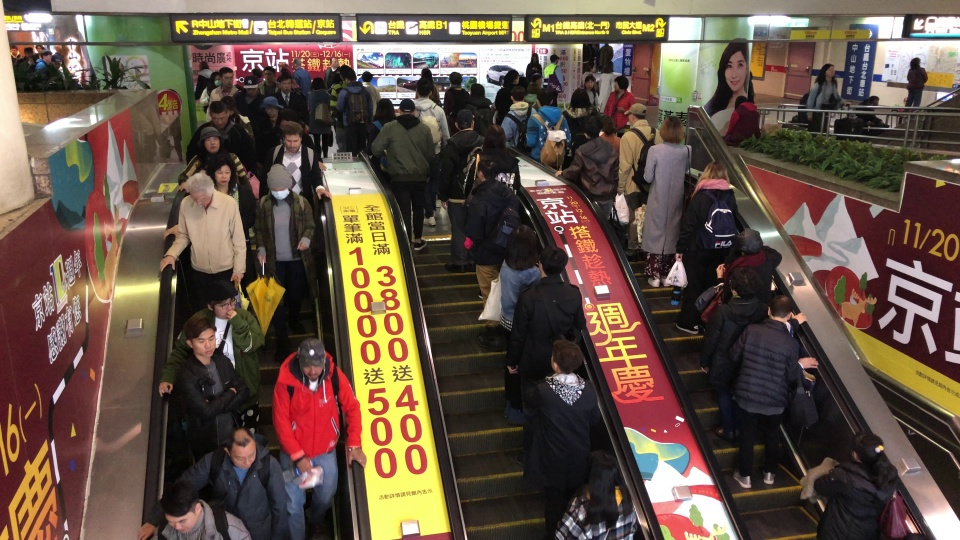person_head: (159, 487, 202, 534), (222, 427, 257, 470), (185, 317, 220, 356), (206, 280, 239, 319), (296, 337, 325, 381), (503, 231, 539, 262), (538, 244, 569, 279), (851, 433, 887, 461), (185, 173, 214, 206), (414, 68, 442, 102), (657, 115, 685, 143), (471, 158, 502, 183), (734, 229, 766, 252), (549, 347, 577, 373), (593, 457, 621, 482), (267, 174, 292, 200), (484, 123, 508, 147), (209, 100, 229, 128), (214, 156, 232, 187), (767, 295, 791, 318), (699, 162, 728, 181), (200, 126, 221, 152), (451, 109, 477, 130), (283, 122, 301, 152), (728, 277, 754, 297), (626, 102, 647, 125), (534, 87, 554, 106), (569, 88, 590, 105), (376, 97, 395, 115), (397, 98, 416, 116), (263, 96, 279, 117), (583, 121, 600, 139), (446, 71, 465, 87), (219, 67, 234, 87), (243, 76, 258, 96), (415, 81, 432, 98), (818, 62, 836, 78), (222, 96, 236, 116), (614, 74, 630, 91), (277, 75, 292, 93), (505, 68, 520, 84), (469, 83, 486, 97), (510, 88, 527, 102), (599, 114, 614, 129), (582, 74, 596, 89), (603, 120, 618, 134), (209, 71, 222, 85), (312, 76, 325, 90), (263, 65, 274, 81), (343, 70, 359, 81), (531, 72, 543, 86), (734, 95, 749, 106), (602, 60, 614, 73), (40, 50, 52, 62), (361, 71, 374, 82), (419, 68, 433, 78), (868, 95, 879, 106), (279, 63, 291, 73), (328, 57, 340, 67), (908, 57, 923, 65), (198, 60, 209, 70), (292, 57, 302, 68), (550, 54, 560, 63), (530, 53, 539, 62), (10, 45, 19, 53), (335, 73, 342, 82), (35, 45, 45, 51)
person_vbox: (272, 335, 368, 539), (731, 295, 819, 489), (703, 276, 809, 437), (499, 243, 594, 420), (137, 431, 291, 540), (523, 346, 607, 539), (671, 161, 750, 334), (153, 280, 268, 397), (256, 174, 324, 338), (467, 157, 531, 328), (161, 174, 253, 288), (370, 98, 435, 250), (639, 115, 693, 287), (813, 433, 897, 540), (163, 156, 256, 247), (616, 102, 670, 253), (436, 108, 485, 274), (496, 232, 552, 374), (441, 107, 489, 272), (554, 456, 637, 540), (264, 121, 331, 205), (409, 81, 446, 227), (175, 126, 253, 194), (554, 121, 622, 196), (158, 487, 251, 540), (185, 100, 255, 165), (711, 229, 789, 283), (477, 123, 524, 198), (525, 88, 573, 159), (805, 62, 851, 133), (337, 70, 374, 156), (412, 80, 453, 154), (501, 89, 540, 149), (306, 76, 334, 158), (205, 67, 243, 123), (562, 88, 600, 143), (723, 95, 762, 146), (276, 74, 310, 132), (361, 97, 393, 157), (602, 74, 636, 128), (493, 68, 525, 125), (361, 70, 381, 154), (443, 71, 478, 116), (905, 57, 929, 118), (258, 95, 284, 146), (442, 71, 472, 115), (856, 95, 893, 128), (193, 71, 225, 107), (466, 83, 494, 124), (598, 60, 615, 113), (329, 73, 347, 115), (291, 57, 312, 88), (322, 57, 344, 84), (597, 43, 614, 73)
